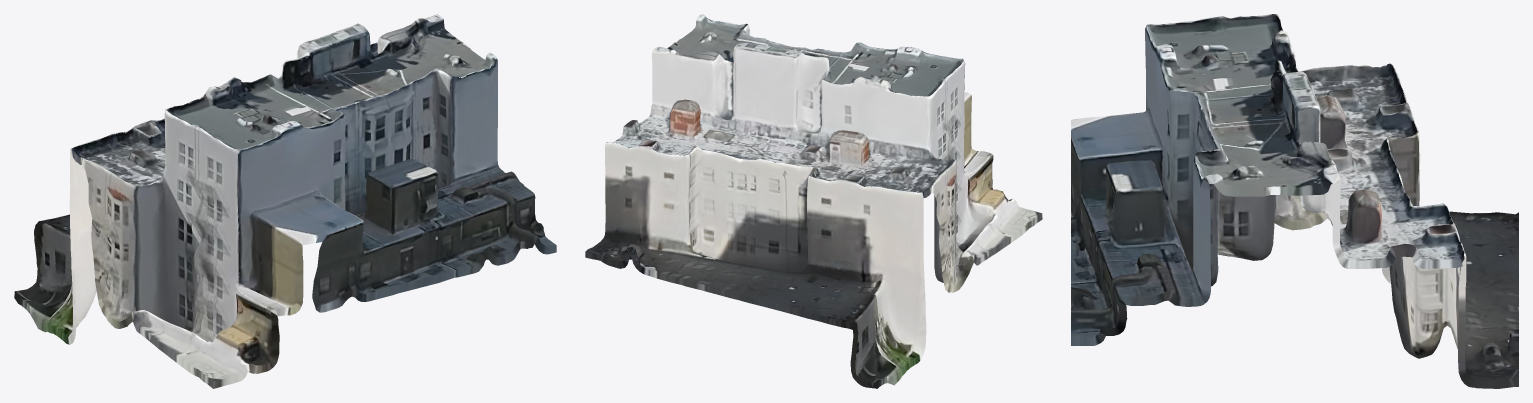
File: z20-167745-405241-h0-yup-uvflip-v3-world.glb
3 renders of one model, left to right at view 1: azimuth 30°, elevation 25°; view 2: azimuth 150°, elevation 25°; view 3: azimuth 270°, elevation 25°, orthographic. The views are drawn at different scales.
Size of the model in its own units: 30.2 by 24.56 by 30.32.
1 material, 1 textured.
